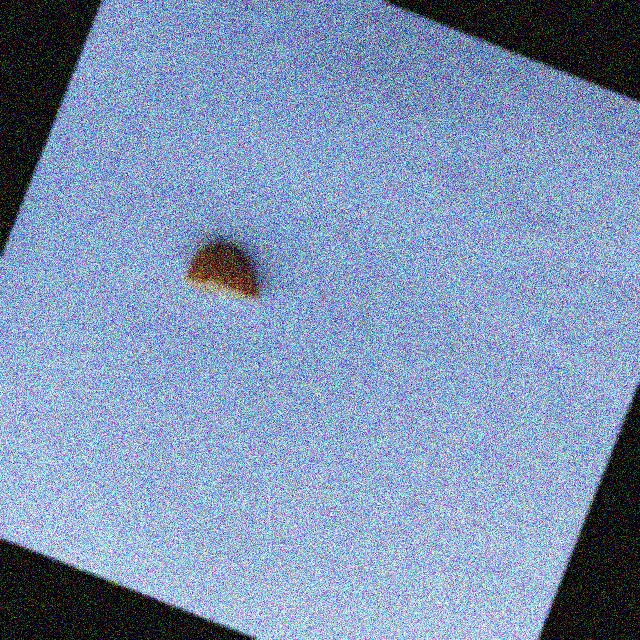grade4: (175, 227, 282, 318)
